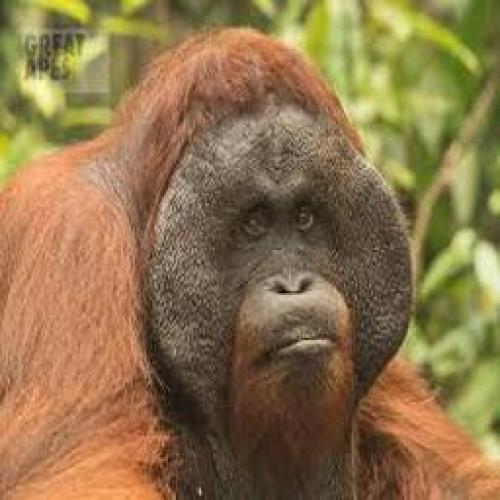orangutan-endangered: (20, 29, 475, 482)
